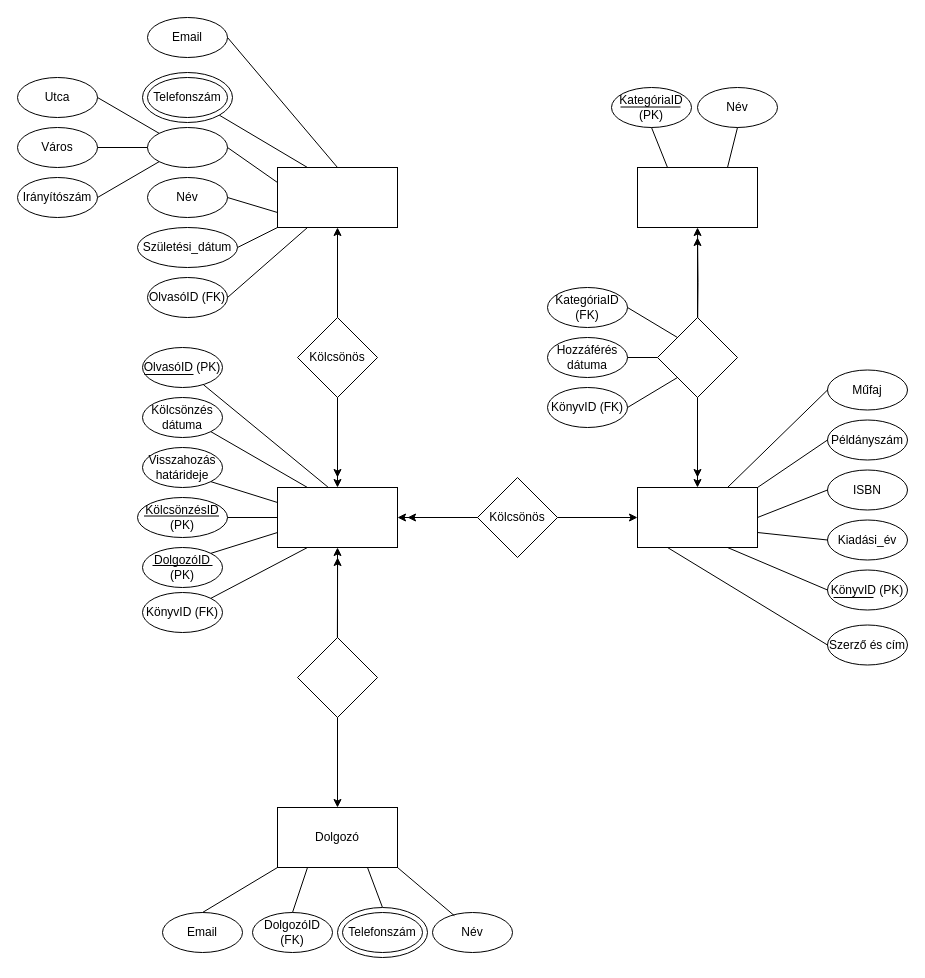
Some shapes in this 925 by 978 pixel diagram are drawn without their labels. The shapes that lost their labels are listed below. From the top down, each one's centre as x and y in pixels, then its label:
At pixel 187 147: "Lakcím".
At pixel 337 197: "Olvasó".
At pixel 697 197: "Kategória".
At pixel 697 357: "Tartozik".
At pixel 337 517: "Kölcsönzés".
At pixel 697 517: "Könyv".
At pixel 337 677: "Kezelő".
